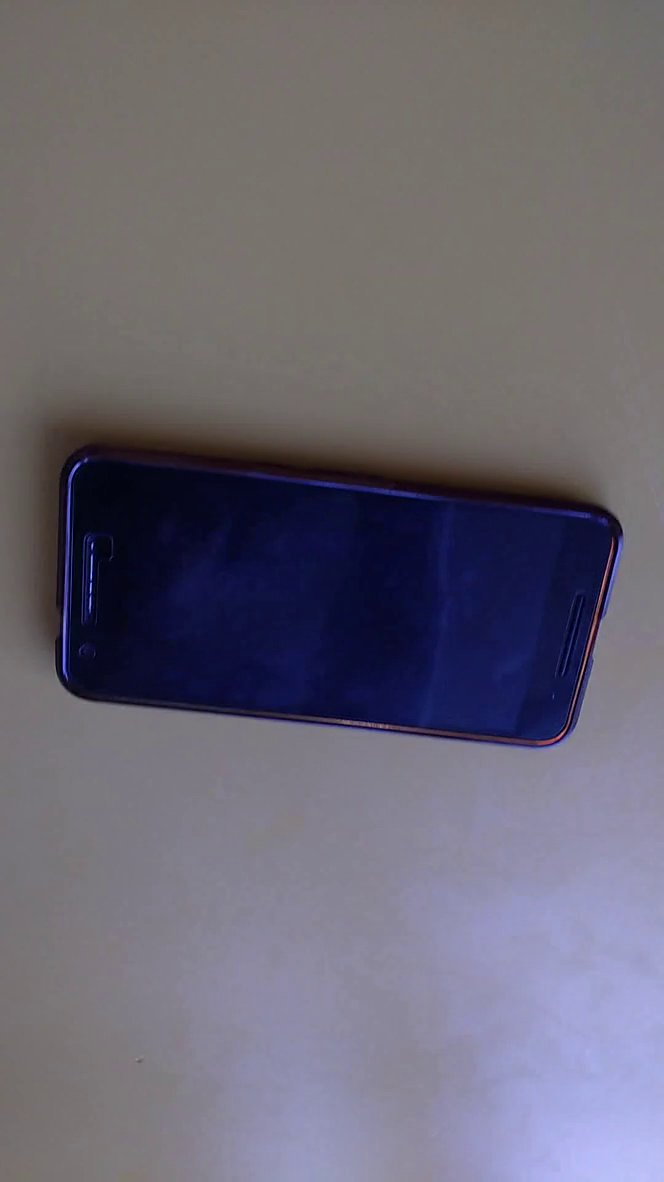phone: (48, 429, 642, 766)
